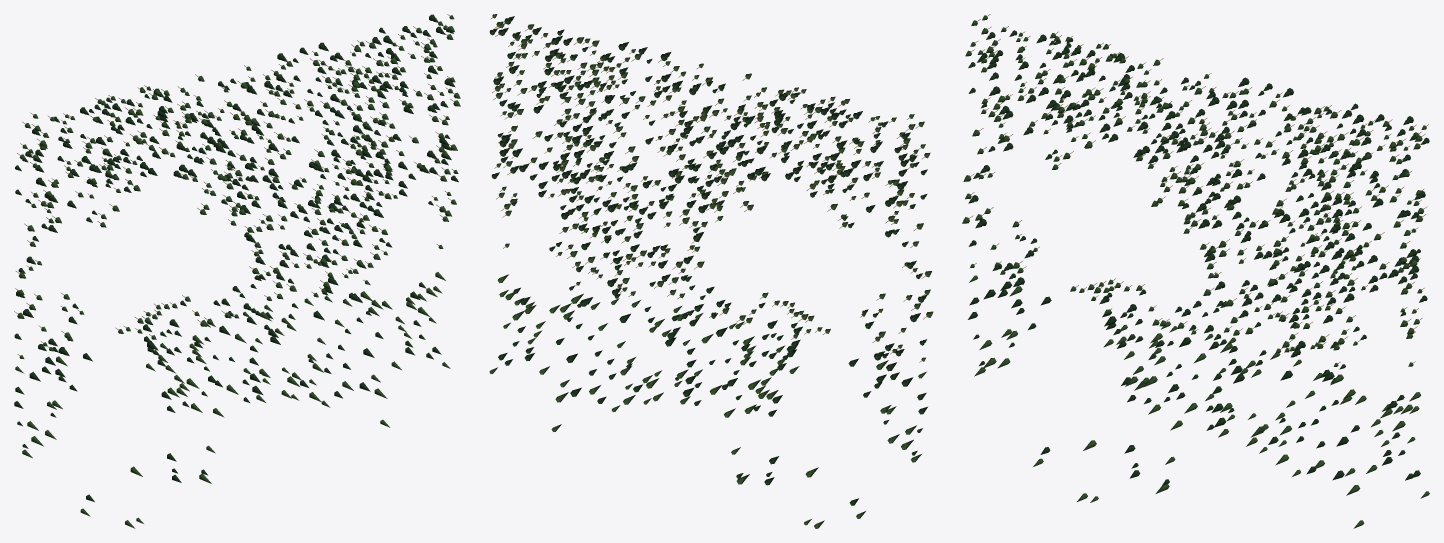
File: forest_8.obj
The picture shows the model from 3 angles, left to right: view 1: azimuth 30°, elevation 25°; view 2: azimuth 150°, elevation 25°; view 3: azimuth 330°, elevation 25°; orthographic projection. The views are drawn at different scales.
Size of the model in its own units: 553 by 524 by 35.
